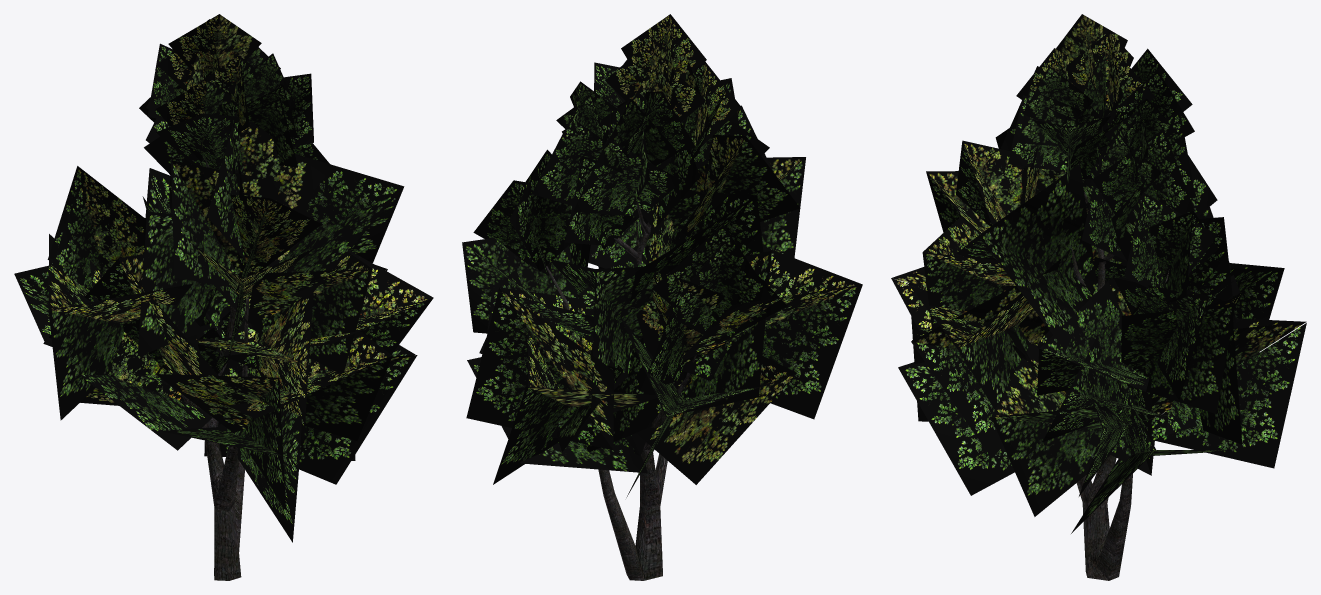
File: tree706.glb
3 views of the same model, side by side, from view 1: azimuth 30°, elevation 25°; view 2: azimuth 150°, elevation 25°; view 3: azimuth 270°, elevation 25° (orthographic). The views are drawn at different scales.
Visible parts, largest first — view 1: tree706; view 2: tree706; view 3: tree706.
Boxes of the visible parts, <box> form: tree706: <box>14,14,433,580</box>; tree706: <box>462,14,862,580</box>; tree706: <box>891,14,1306,580</box>.
Size of the model in its own units: 10.76 by 16.3 by 11.12.
2 materials, 2 textured.
